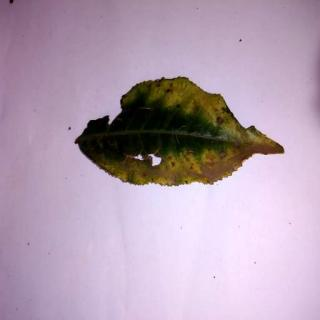Anthracnose: (73, 77, 287, 193)
